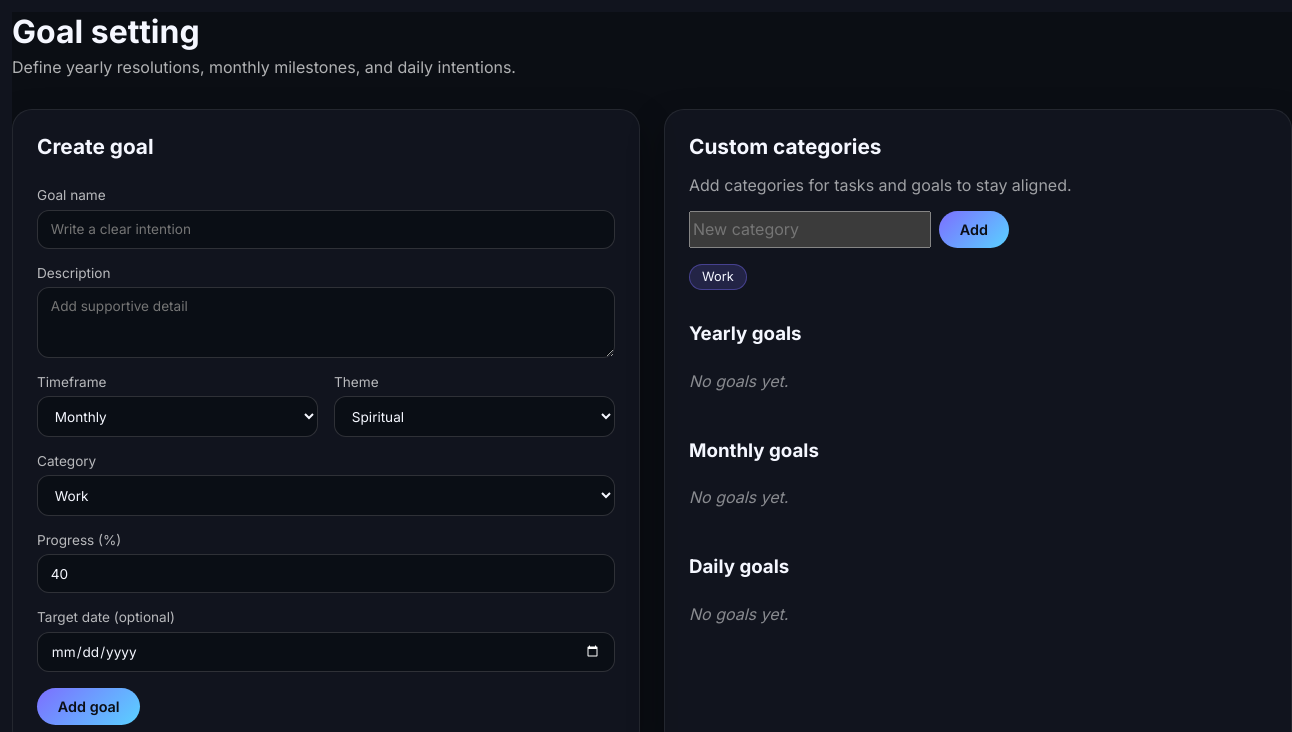
Test: Goal setting › creates a yearly goal with a theme and custom category
The image size is (1292, 732).
Type "Faithful mornings" into the field labelled "Goal name" at (326, 229), box [37,210,615,249]
Type "30-minute reflection routine" into the text box labelled "Description" at (326, 322), box [37,287,615,358]
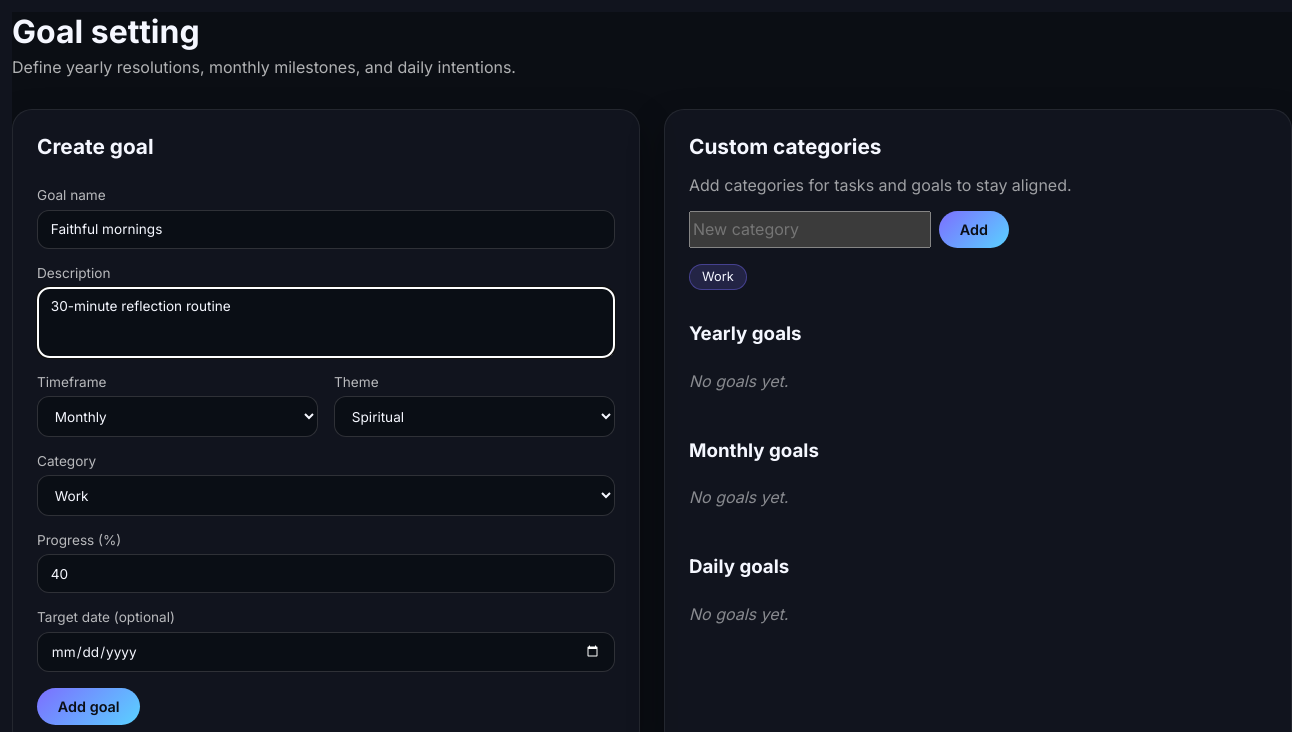
Select "Yearly" in the dropdown labelled "Timeframe" at (178, 416), box [37,396,318,437]
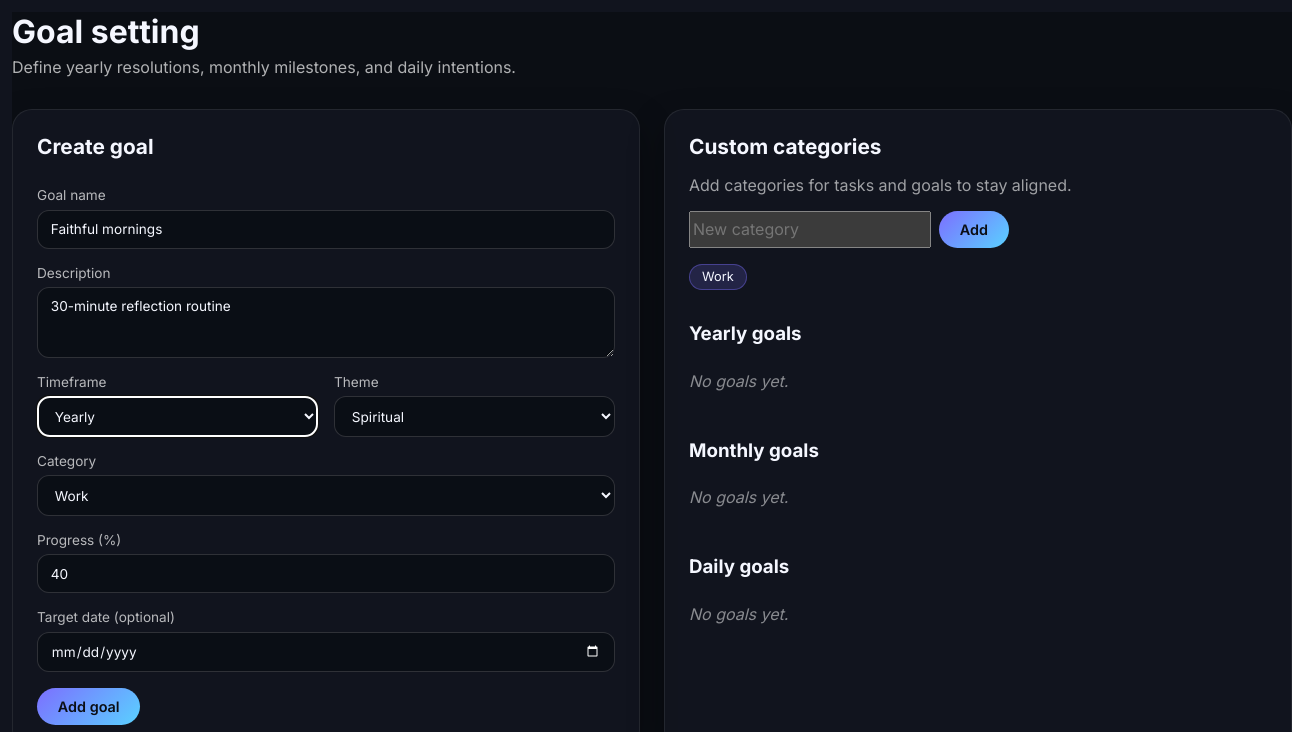
Select "Spiritual" in the dropdown labelled "Theme" at (474, 416), box [334,396,615,437]
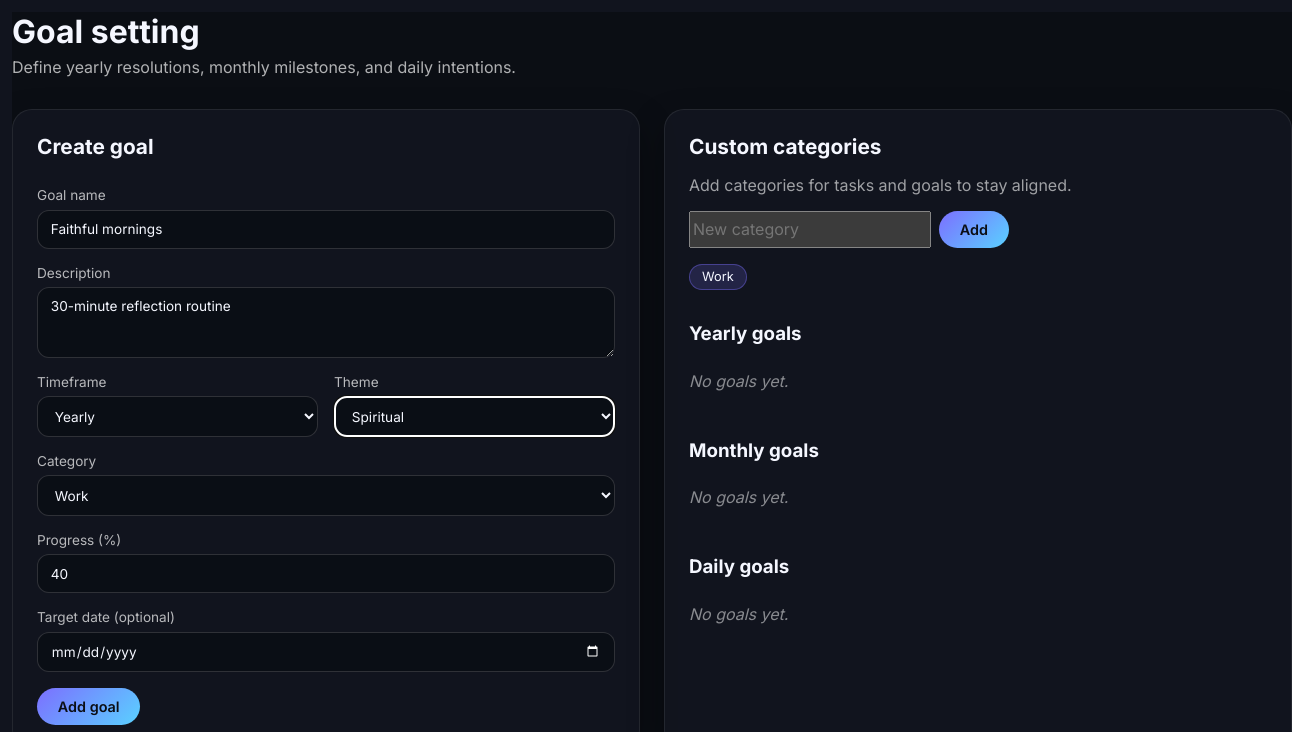
Type "75" into the number field labelled "Progress (%)" at (326, 574), box [37,554,615,593]
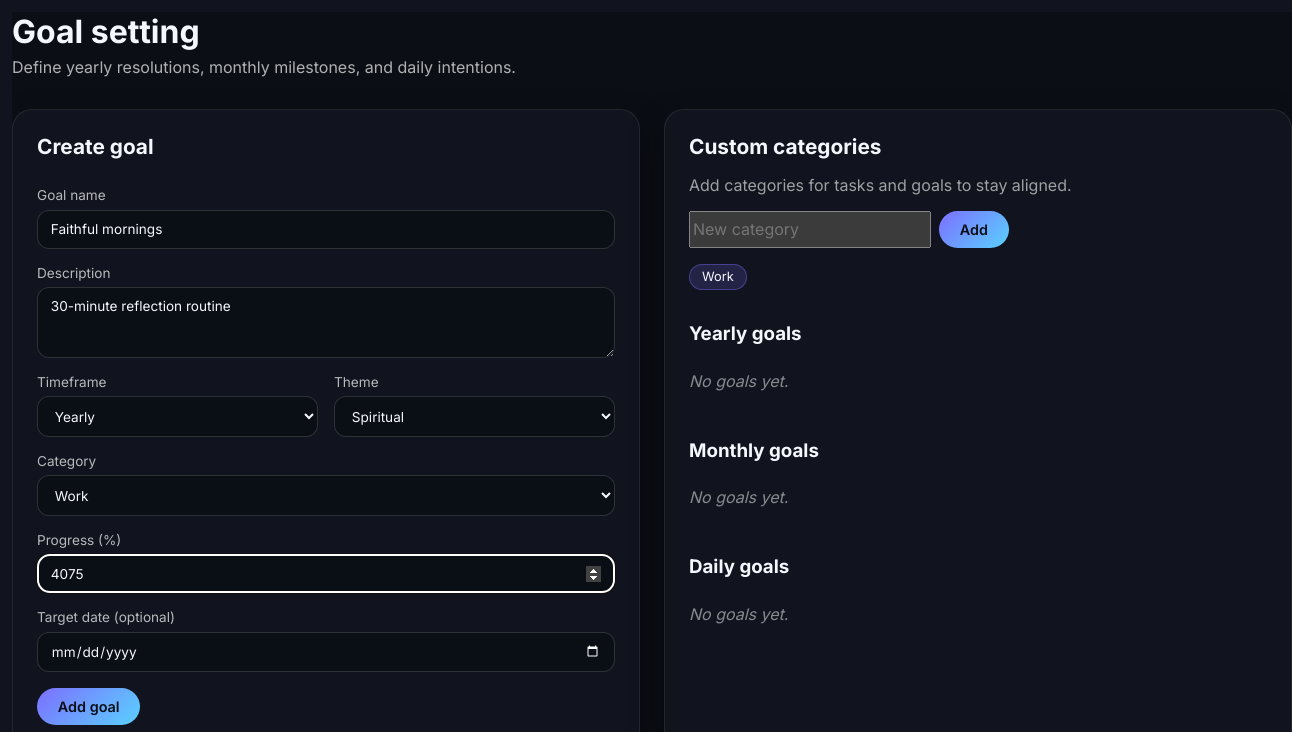
Click the button "Add goal" at (89, 706), box [37,688,140,725]
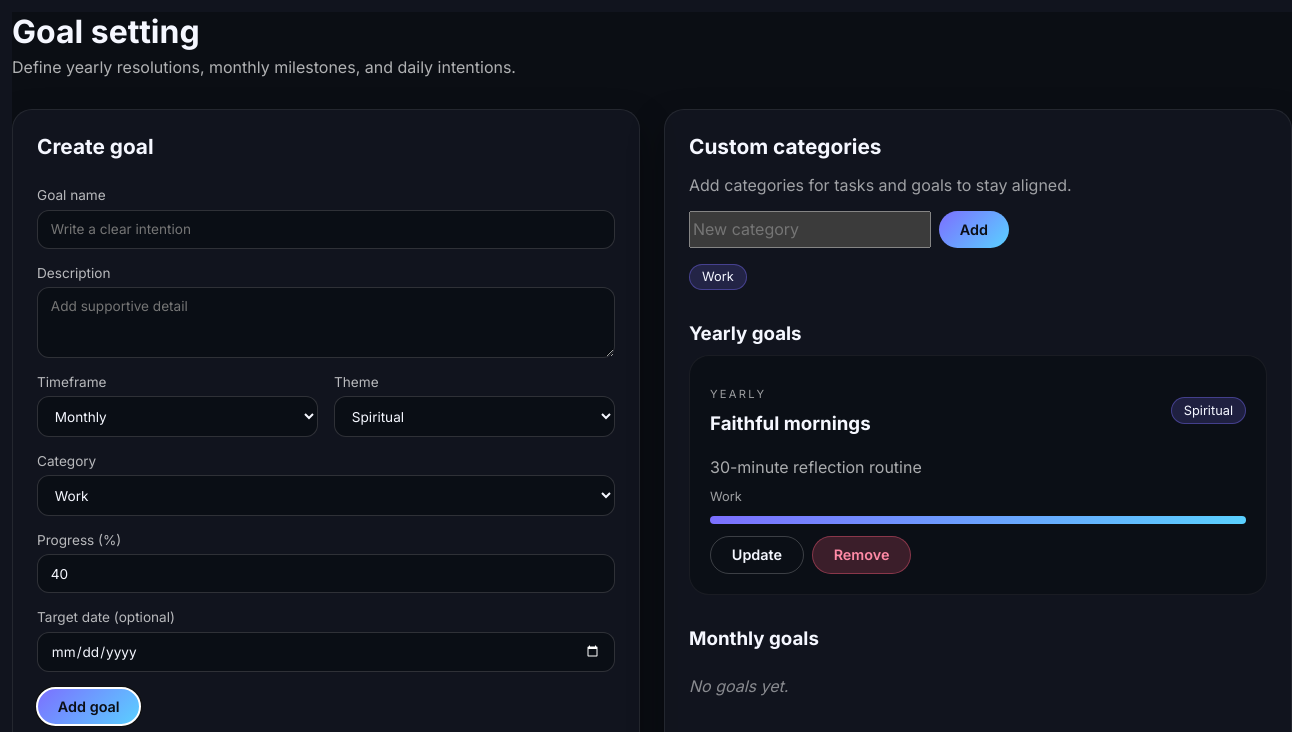
Expected: the heading "Yearly goals" is shown, [689,322,802,345]
Expected: the heading "Faithful mornings" is shown, [710,412,871,435]
Type "Ministry" into the field with placeholder "New category" at (810, 230), box [689,211,931,248]
Click the button "Add" at (974, 230), box [939,211,1009,248]
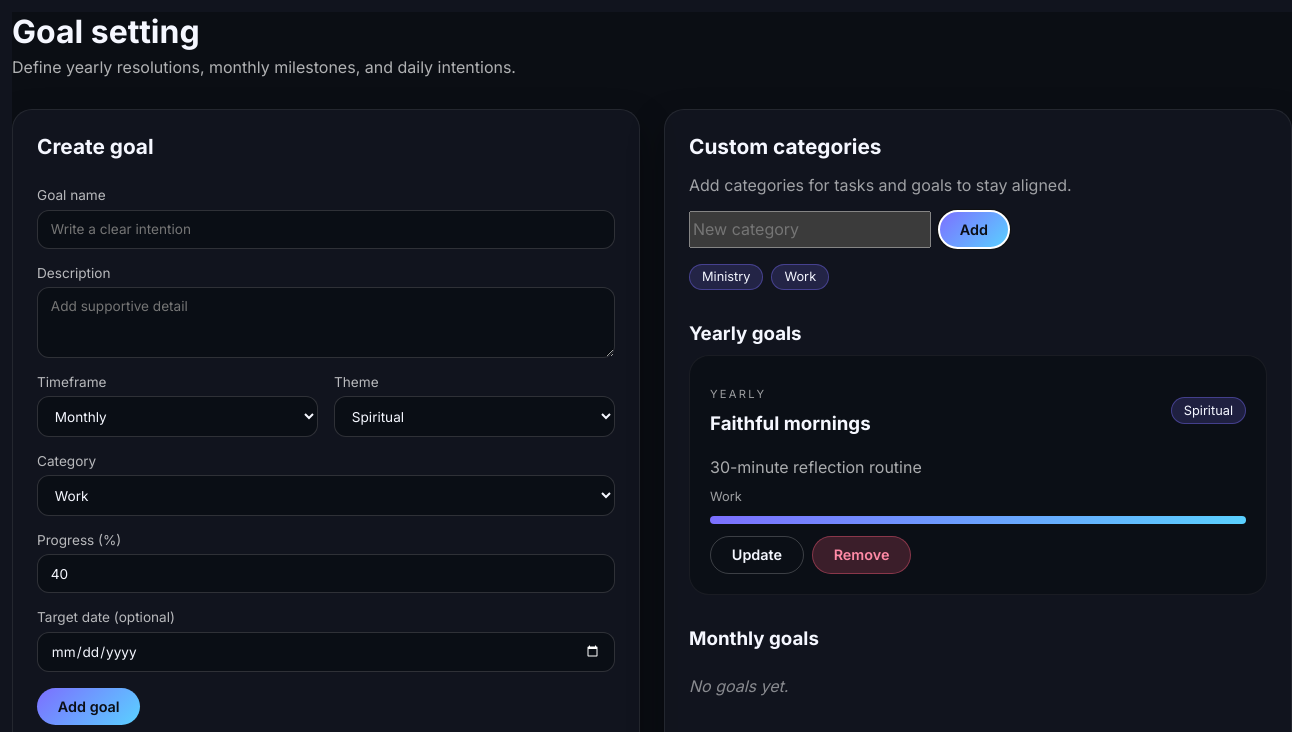
Expected: the text "Ministry" is shown, [689,264,764,290]
